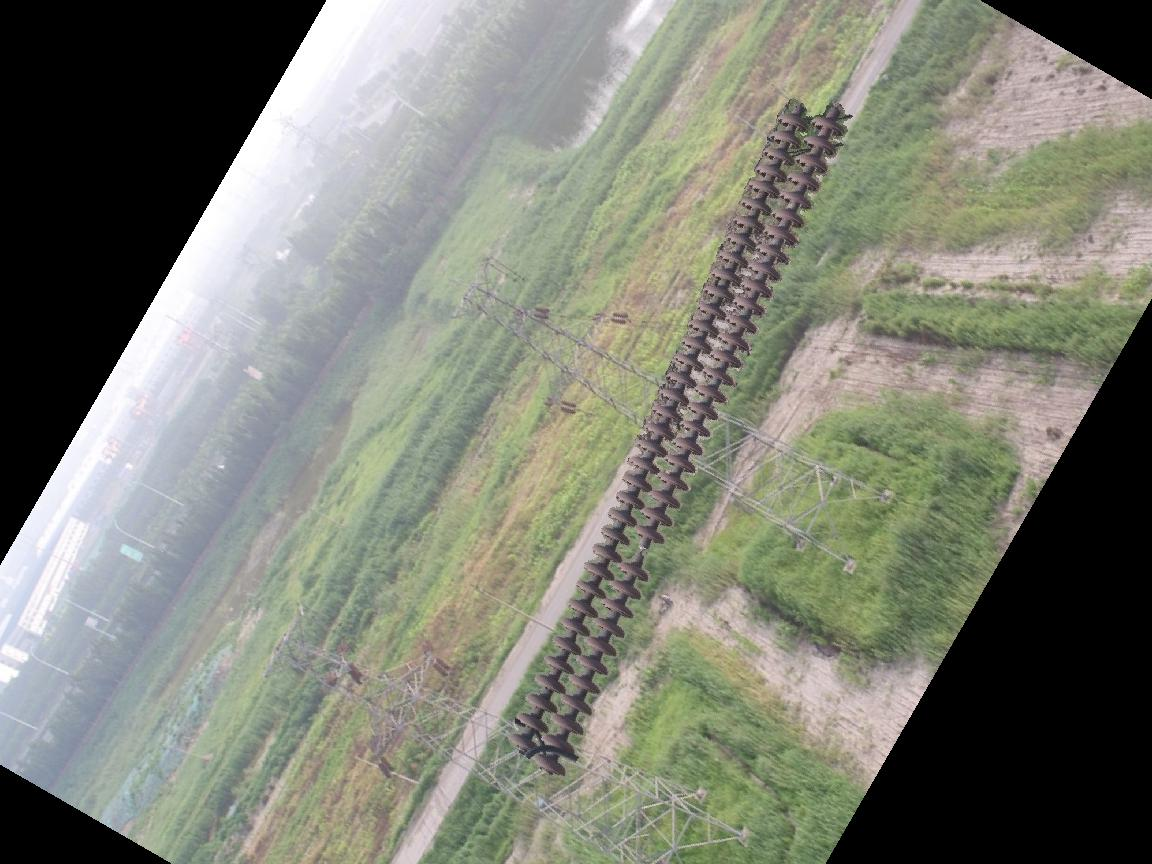insulator: (504, 102, 854, 781)
insulator_stringdrop: (617, 521, 667, 584)
